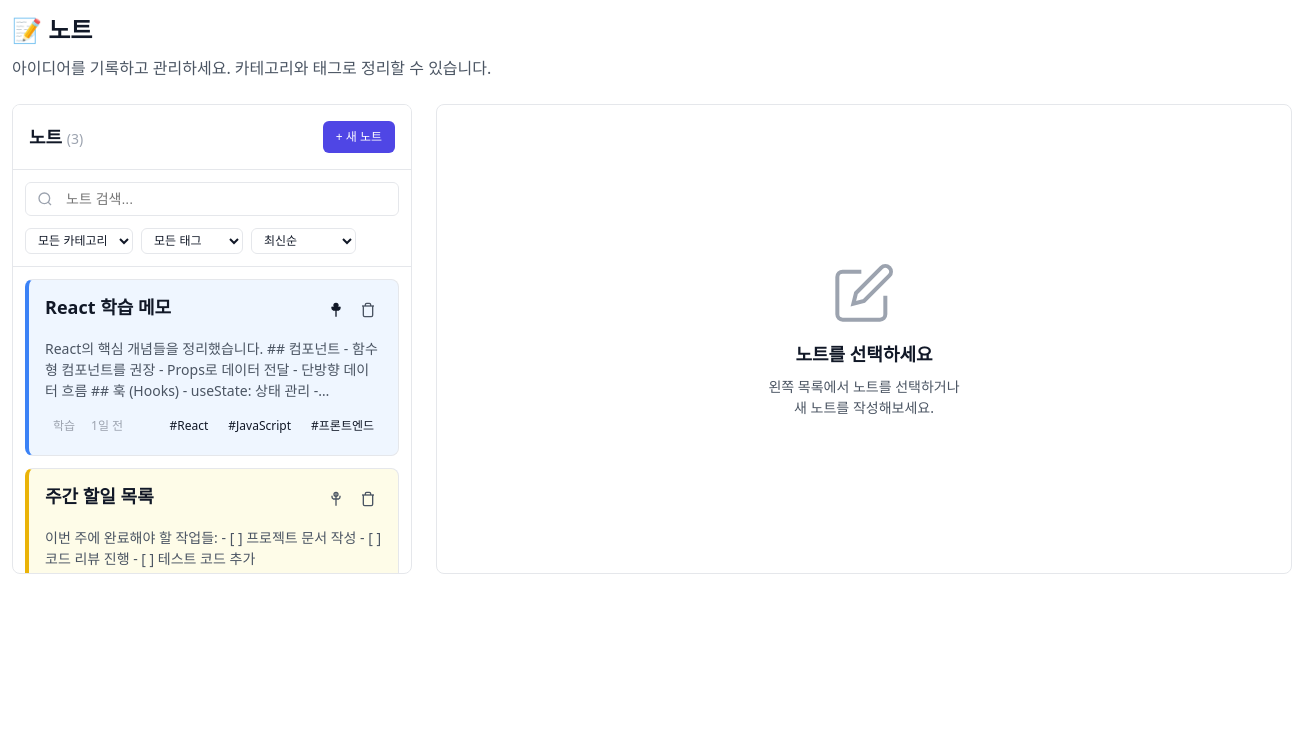
Notes Page › 새 노트 버튼을 클릭하면 편집 모드로 전환된다
Click the button "+ 새 노트" at (359, 137), box x1=323 y1=121 x2=395 y2=153
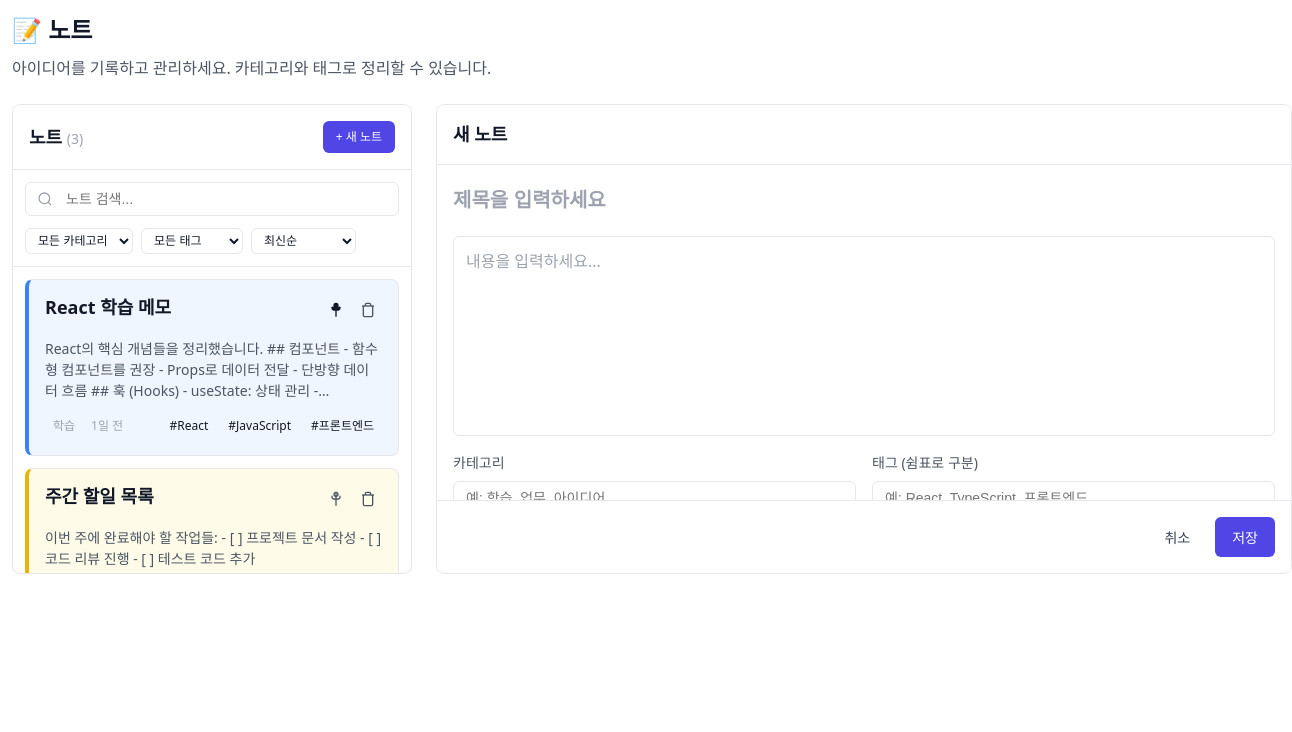
Now the field with placeholder "제목을 입력하세요" is shown, box x1=453 y1=181 x2=1275 y2=220
Now the text box with placeholder "내용을 입력하세요..." is shown, box x1=453 y1=236 x2=1275 y2=436
